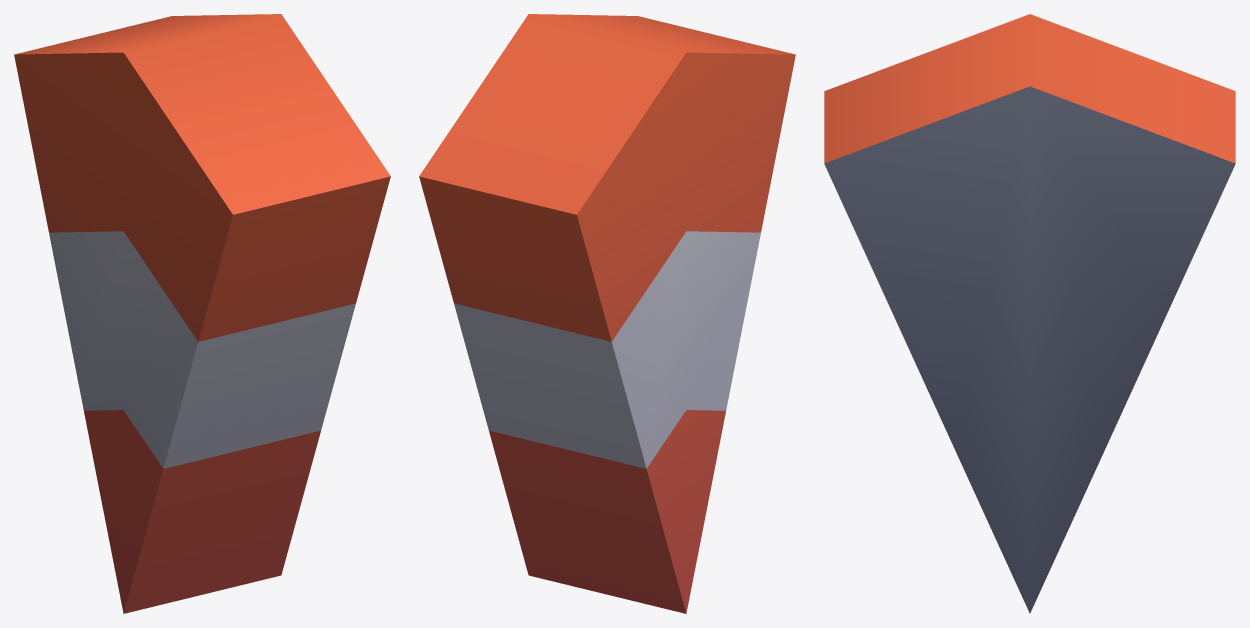
Rendered from target-fragment-large.glb.
3 renders of one model, left to right at view 1: azimuth 30°, elevation 25°; view 2: azimuth 150°, elevation 25°; view 3: azimuth 270°, elevation 25°, orthographic. The views are drawn at different scales.
Parts seen in each view (by area): view 1: target-fragment-large; view 2: target-fragment-large; view 3: target-fragment-large.
Part boxes in pixels (box(x1,y1,x2,y2)): target-fragment-large: box(14, 14, 390, 613); target-fragment-large: box(419, 14, 795, 613); target-fragment-large: box(824, 14, 1235, 613).
Size of the model in its own units: 0.05 by 0.17 by 0.1202.
Materials: 1 (1 with a texture image).
